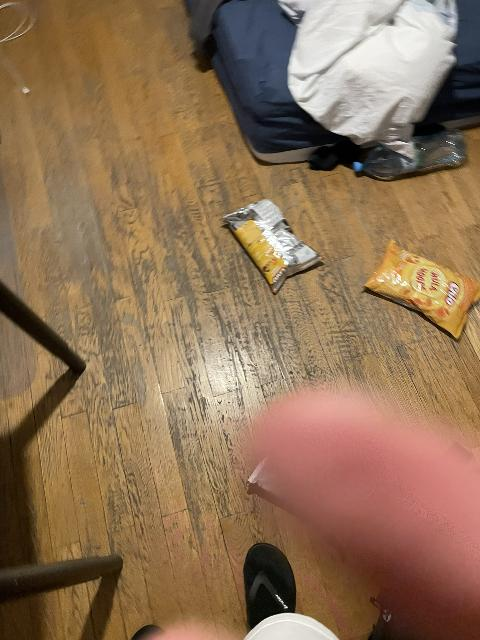Chio Cascaval 125g: (222, 200, 324, 295)
Chio Hula Hoops Cheese 70g: (361, 240, 480, 336)
